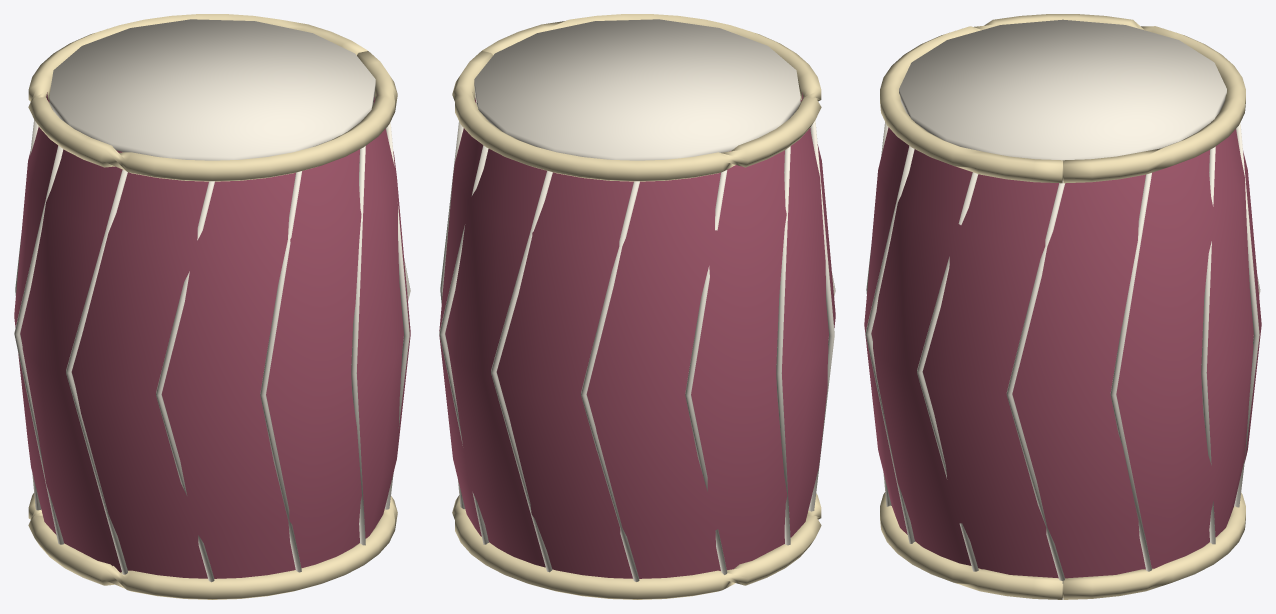
Rendered from festive-dhol.glb.
3 renders of one model, left to right at view 1: azimuth 30°, elevation 25°; view 2: azimuth 150°, elevation 25°; view 3: azimuth 270°, elevation 25°, orthographic.
Visible parts, largest first — view 1: drum-0, skin-1, rims-2, cords-3; view 2: drum-0, skin-1, rims-2, cords-3; view 3: drum-0, skin-1, rims-2, cords-3.
Boxes of the visible parts, box(x1,y1,x2,y2) form: drum-0: box(14, 92, 410, 578); skin-1: box(49, 19, 375, 160); rims-2: box(28, 14, 397, 599); cords-3: box(14, 120, 410, 582); drum-0: box(439, 92, 835, 578); skin-1: box(474, 19, 800, 160); rims-2: box(452, 14, 821, 599); cords-3: box(439, 120, 835, 581); drum-0: box(864, 127, 1261, 578); skin-1: box(899, 19, 1226, 160); rims-2: box(880, 14, 1245, 599); cords-3: box(865, 122, 1260, 583).
Size of the model in its own units: 0.86 by 1.04 by 0.86.
